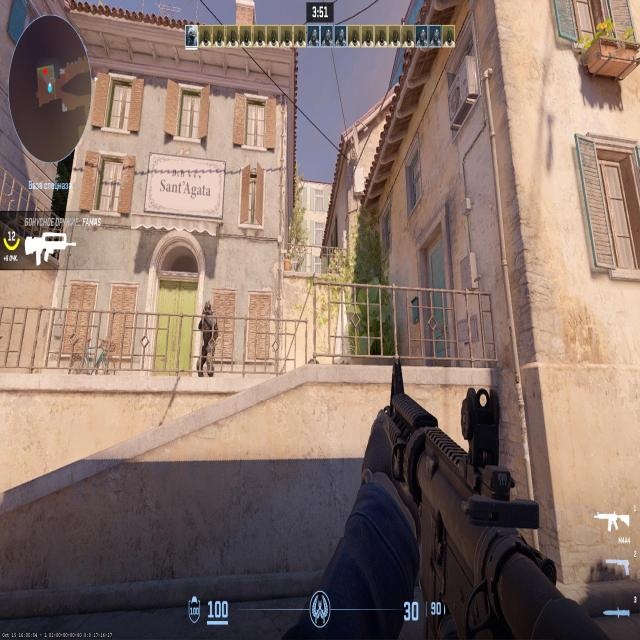CT: (202, 303, 213, 373)
CT_heat: (205, 304, 211, 312)
